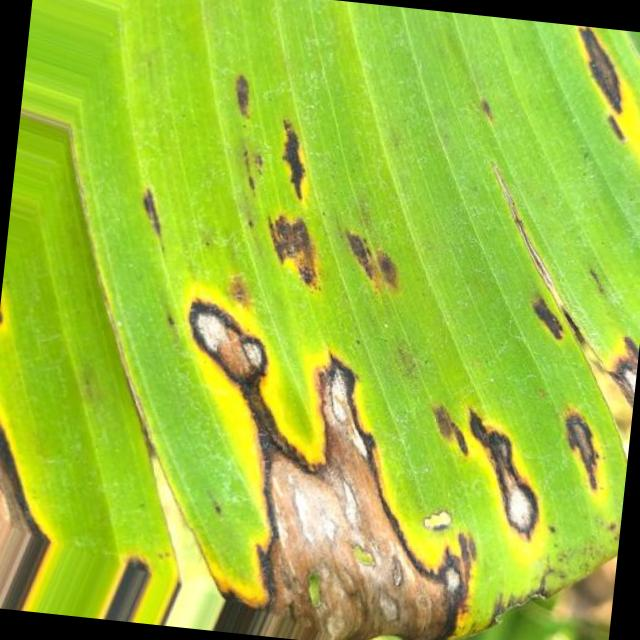Banana_Black_Sigatoka: (159, 86, 497, 640), (472, 227, 624, 594), (557, 25, 640, 157)
